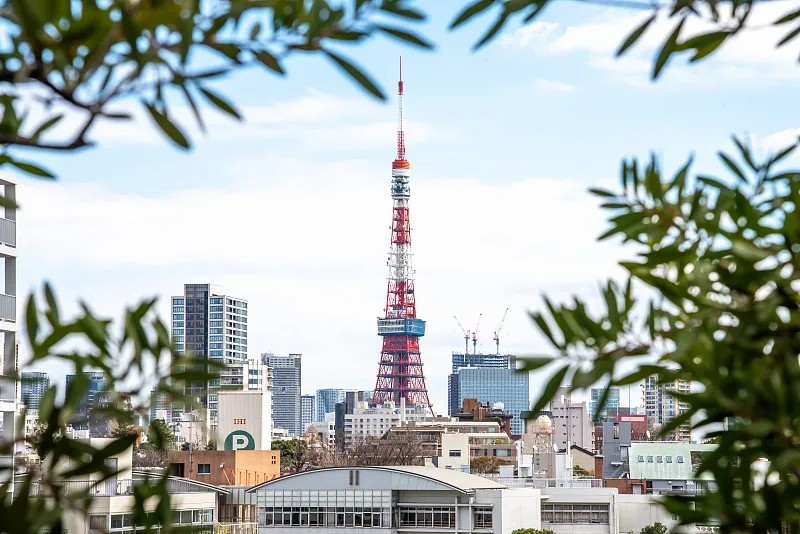Tokyo: (369, 50, 437, 418)
